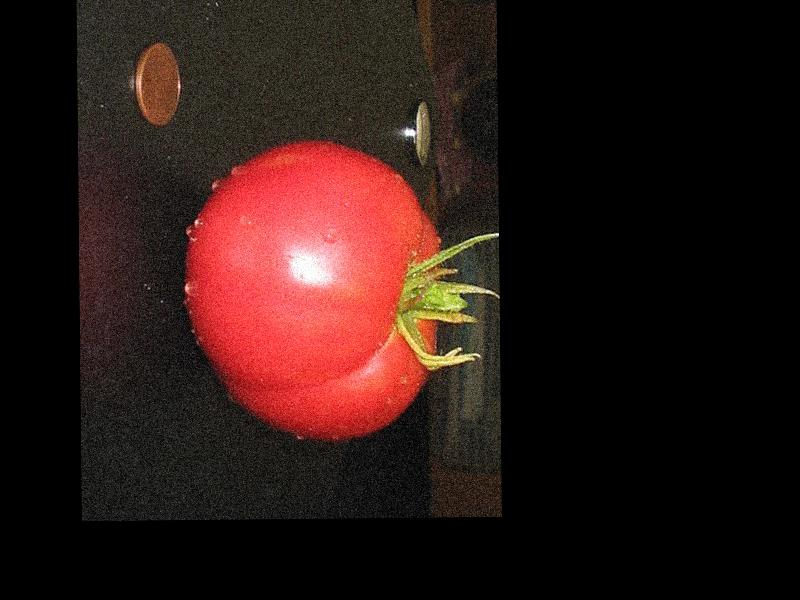Tomato: (182, 140, 443, 444)
